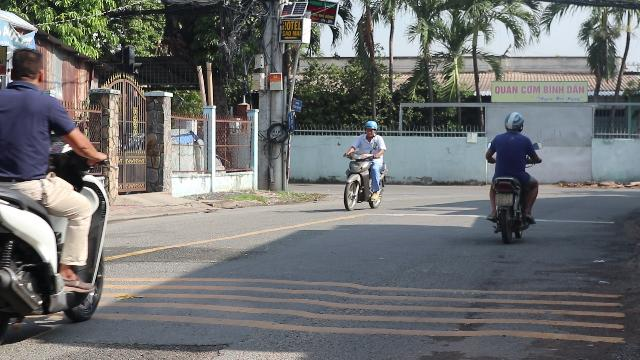helmet: (502, 112, 524, 132)
licenseplate: (496, 194, 512, 206)
motorcyclist: (0, 45, 112, 345), (482, 111, 540, 241)
nohelmet: (6, 48, 46, 88)
